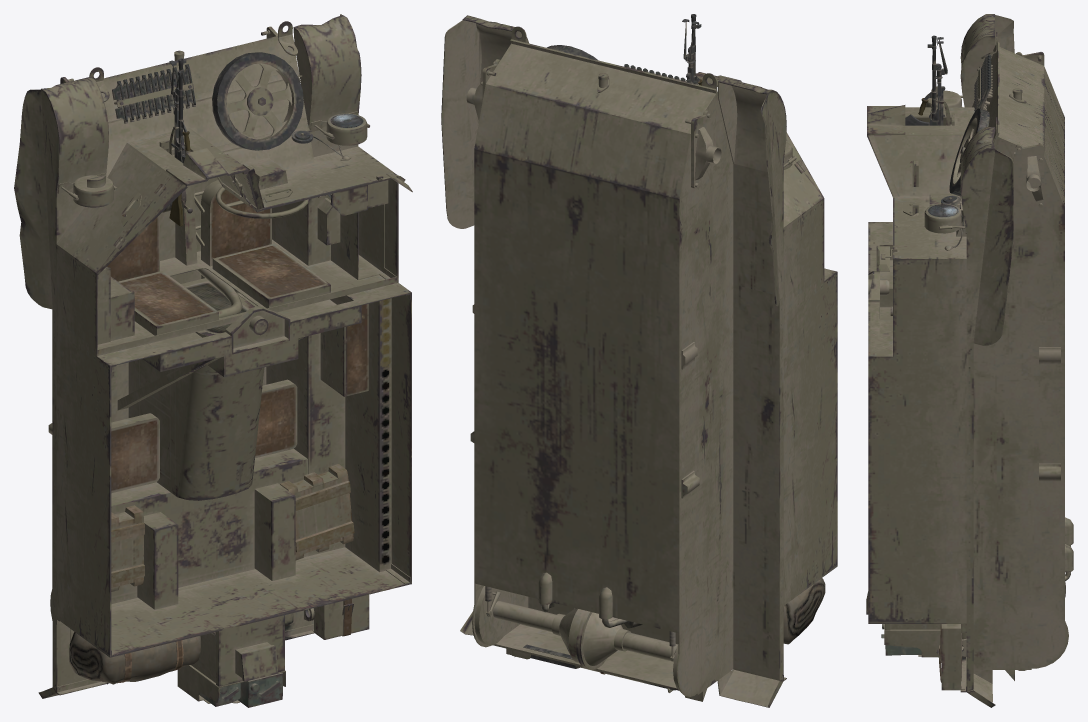
File: Hull.glb
The picture shows the model from 3 angles, left to right: view 1: azimuth 30°, elevation 25°; view 2: azimuth 150°, elevation 25°; view 3: azimuth 270°, elevation 25°; orthographic projection. The views are drawn at different scales.
Parts seen in each view (by area): view 1: set_0_group_0; view 2: set_0_group_0; view 3: set_0_group_0.
Part boxes in pixels (left/top/right/bottom): set_0_group_0: left=14, top=14, right=412, bottom=707; set_0_group_0: left=441, top=14, right=837, bottom=707; set_0_group_0: left=866, top=14, right=1073, bottom=707.
Size of the model in its own units: 2.13 by 3.98 by 1.27.
Materials: 1 (1 with a texture image).
